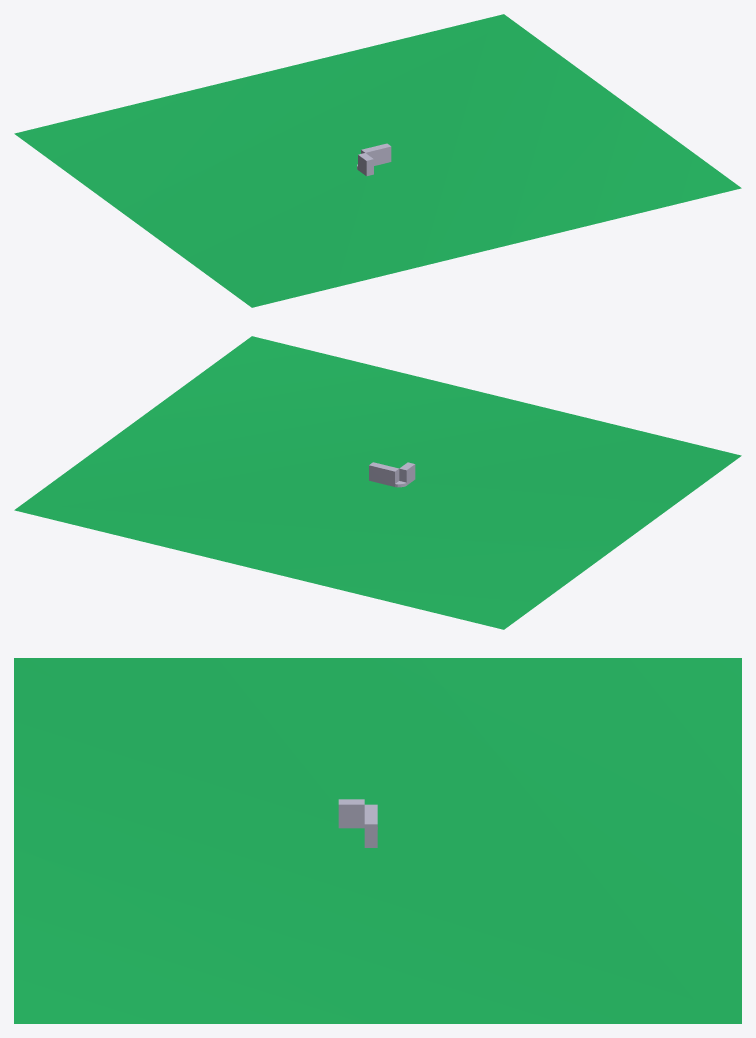
File: taganka8.glb
3 views of the same model, one above another, from view 1: azimuth 30°, elevation 25°; view 2: azimuth 150°, elevation 25°; view 3: azimuth 270°, elevation 25° (orthographic). The views are drawn at different scales.
Visible parts, largest first — view 1: Cube; view 2: Cube; view 3: Cube.
Boxes of the visible parts, <box> form: Cube: <box>14,14,741,307</box>; Cube: <box>14,336,741,629</box>; Cube: <box>14,658,741,1023</box>.
Bounding box in the file's own units: 66.33 × 2 × 55.8.
